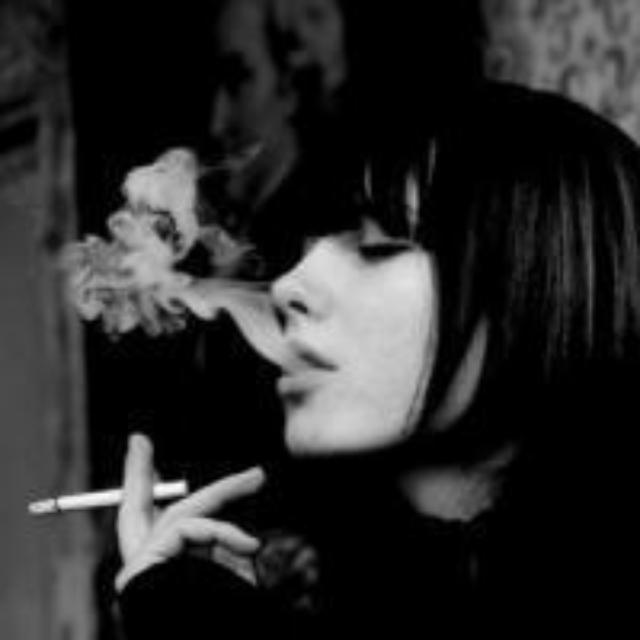Cigarette: (20, 478, 188, 520)
